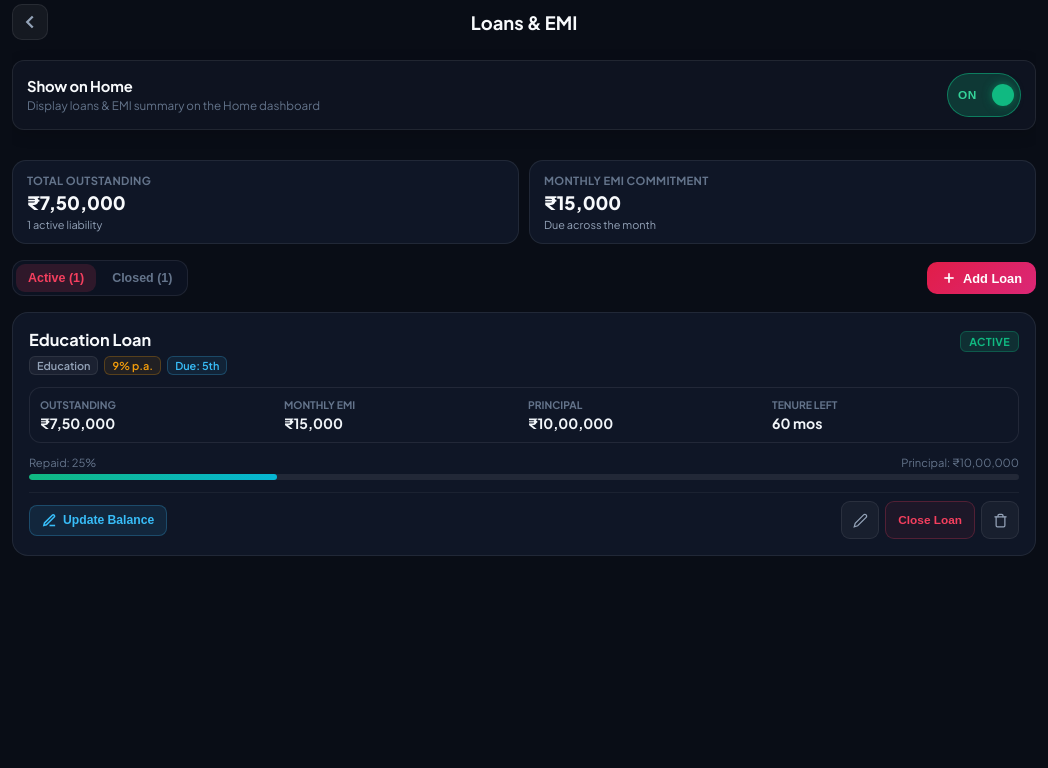
Test case: LoansView - MAS-08 deletion and MAS-09 error feedback › MAS-09: displays visible error toast when close loan (deactivation) fails
This screenshot has width=1048, height=768.
Click the button with class "deactivate". click: (930,520)
box: [885,501,975,539]
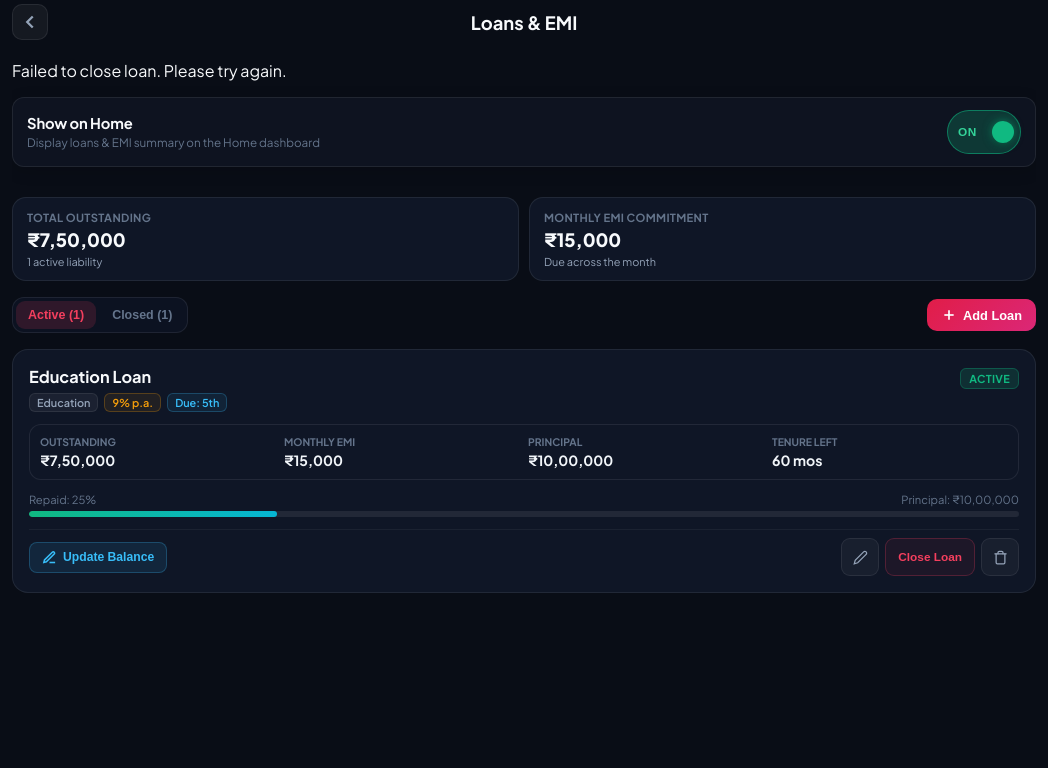
Expected: the message with class "toast-notification" reads "Failed to close loan. Please try again.", [12,60,286,81]
